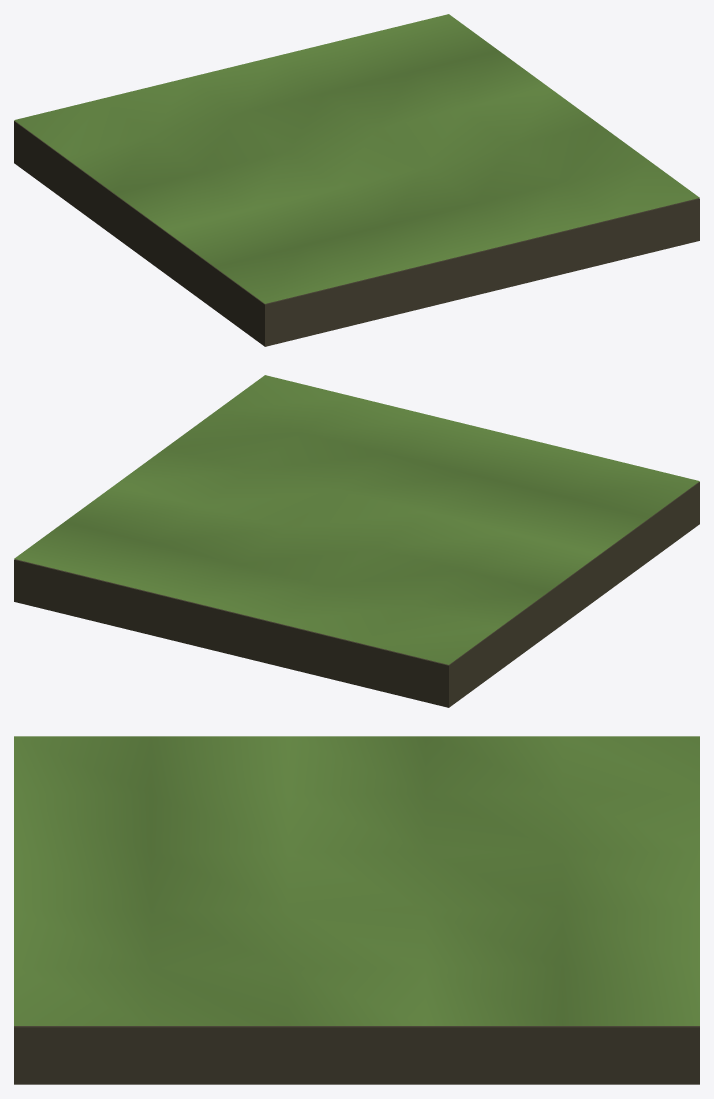
File: Ground_Grass.glb
3 renders of one model, top to bottom at view 1: azimuth 30°, elevation 25°; view 2: azimuth 150°, elevation 25°; view 3: azimuth 270°, elevation 25°, orthographic. The views are drawn at different scales.
Visible parts, largest first — view 1: Ground_Grass; view 2: Ground_Grass; view 3: Ground_Grass.
Part boxes in pixels (x1=…): Ground_Grass: x1=14, y1=14, x2=699, y2=346; Ground_Grass: x1=14, y1=375, x2=699, y2=707; Ground_Grass: x1=14, y1=736, x2=699, y2=1084.
Bounding box in the file's own units: 2.7 × 0.255 × 2.7.
